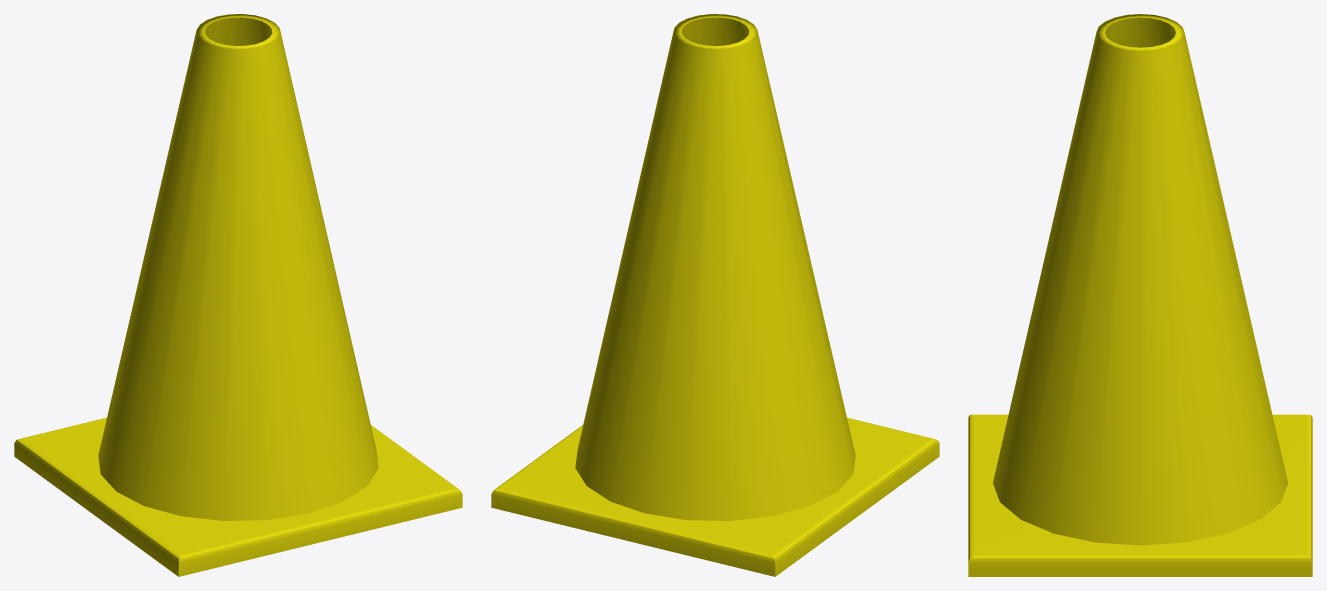
3 views of the same model, side by side, from view 1: azimuth 30°, elevation 25°; view 2: azimuth 150°, elevation 25°; view 3: azimuth 270°, elevation 25° (orthographic). The views are drawn at different scales.
Visible parts, largest first — view 1: cone; view 2: cone; view 3: cone.
Boxes of the visible parts, x1,y1,x2,y2 form: cone: (14, 14, 462, 576); cone: (491, 14, 939, 576); cone: (968, 14, 1312, 576).
Bounding box in the file's own units: 41.36 × 62.67 × 41.49.
